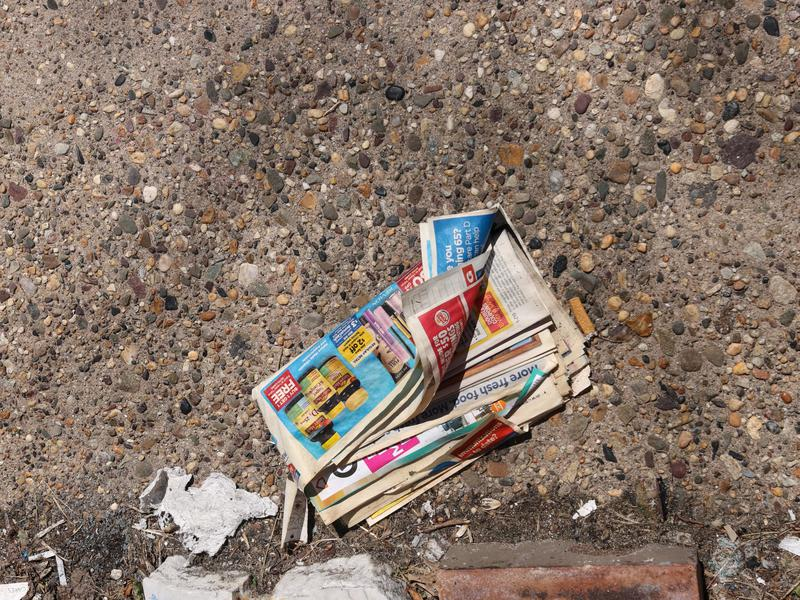burned_cigarette: (567, 294, 605, 341)
paper: (242, 201, 597, 546)
